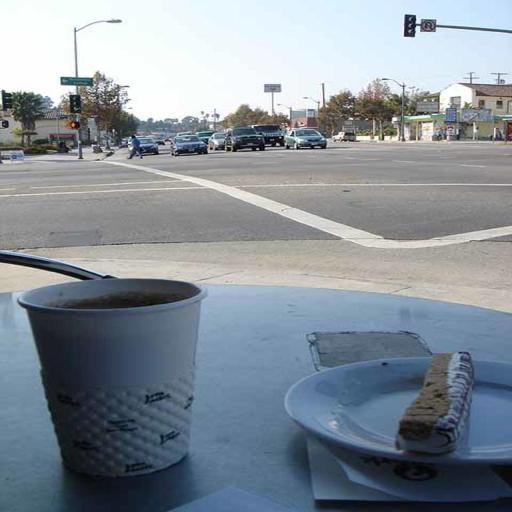trash-can: (16, 254, 215, 486)
